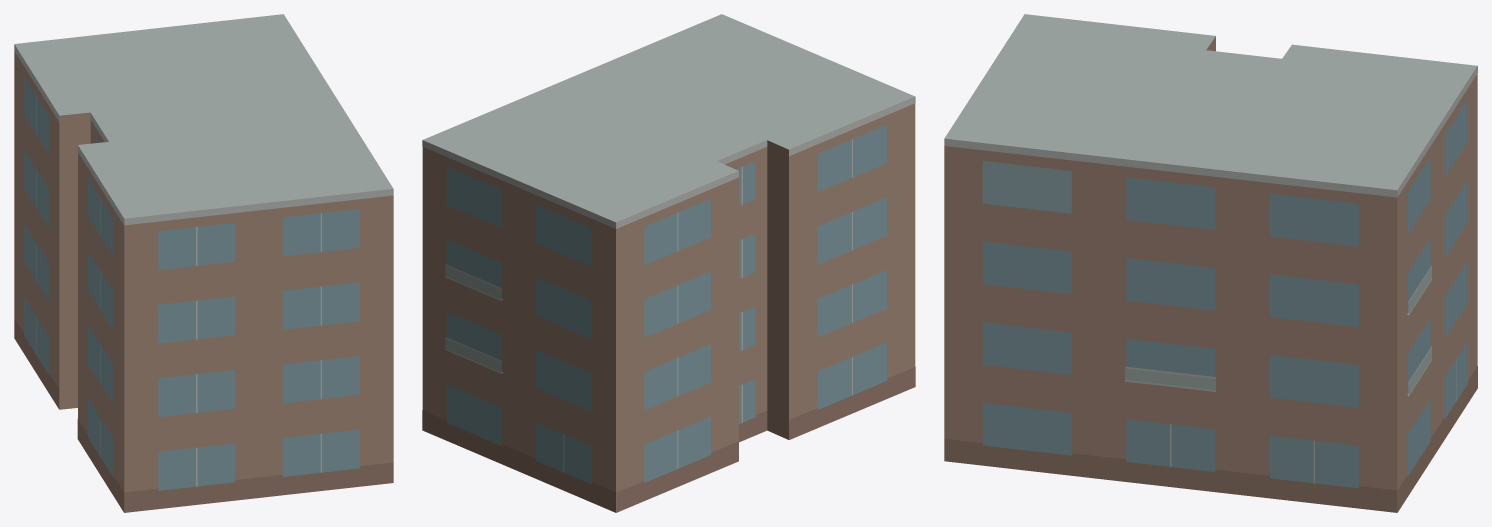
The model's file is survey-upis-32721688.glb.
The picture shows the model from 3 angles, left to right: view 1: azimuth 30°, elevation 25°; view 2: azimuth 150°, elevation 25°; view 3: azimuth 270°, elevation 25°; orthographic projection. The views are drawn at different scales.
Parts seen in each view (by area): view 1: survey-upis-32721688.tmp; view 2: survey-upis-32721688.tmp; view 3: survey-upis-32721688.tmp.
Part boxes in pixels (bbox=[...]): survey-upis-32721688.tmp: bbox=[14, 14, 393, 512]; survey-upis-32721688.tmp: bbox=[422, 14, 915, 512]; survey-upis-32721688.tmp: bbox=[944, 14, 1477, 512].
Bounding box in the file's own units: 12.67 × 10.8 × 16.2.
